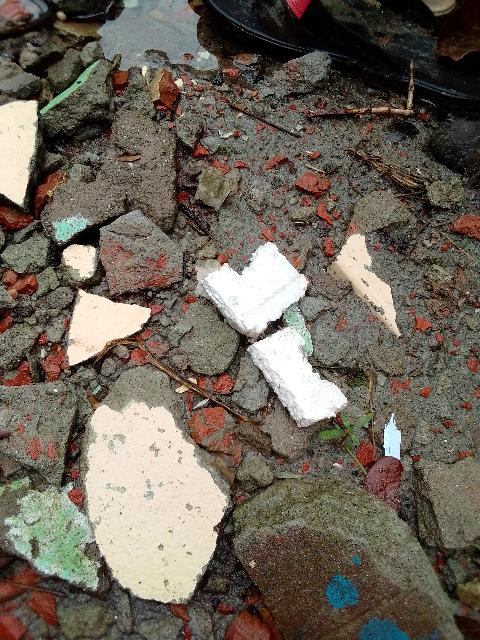cocksheet: (173, 236, 368, 448)
